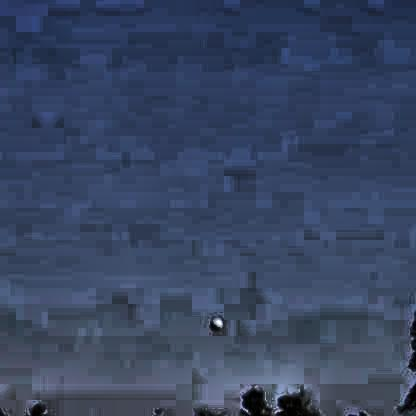golfball: (206, 314, 220, 329)
